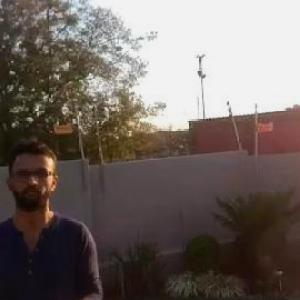follow: (1, 133, 109, 299)
